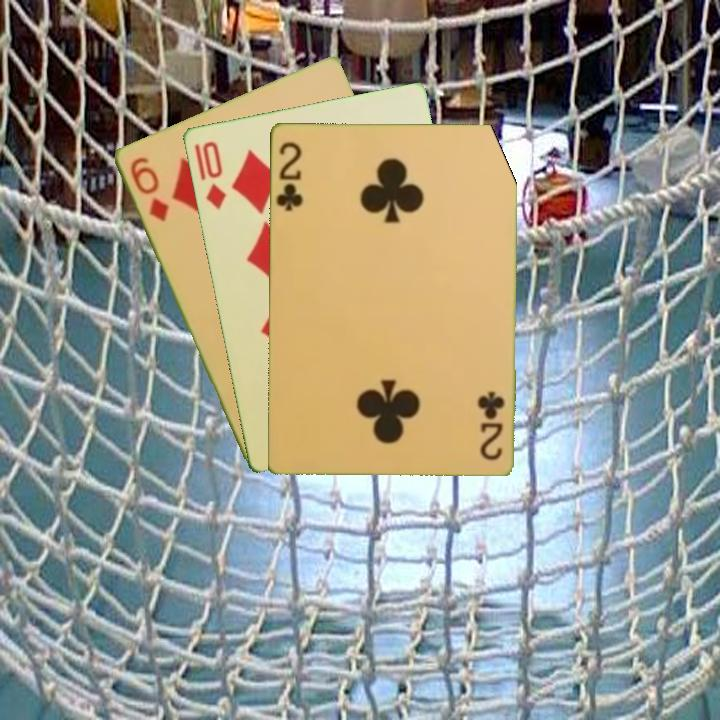10d: (190, 137, 229, 212)
2c: (272, 138, 305, 214), (476, 387, 507, 463)
6d: (126, 153, 171, 225)
